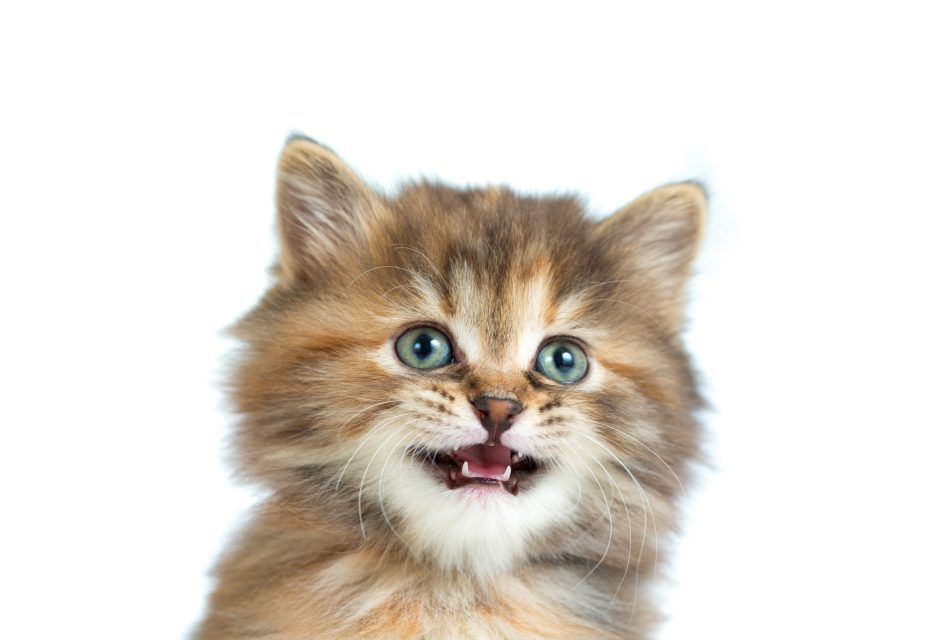Cat: (183, 116, 739, 637)
